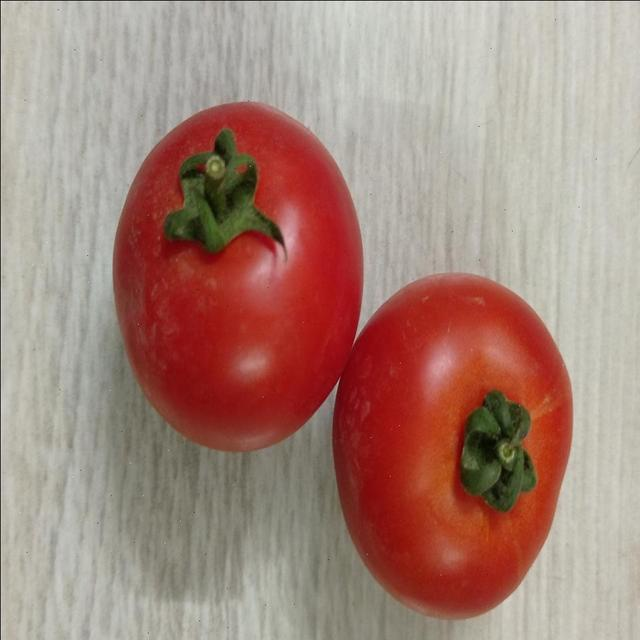Healthy Fruit: (158, 185, 302, 298)
